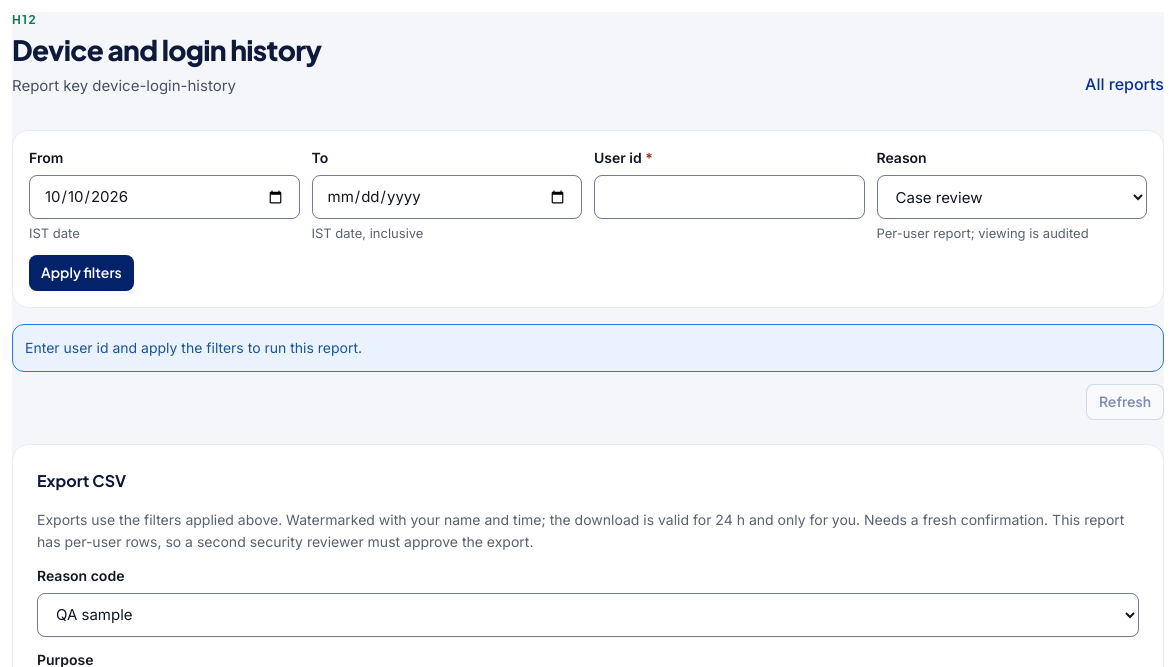
Report filters and secondary data (ADM-06 / ADM-07) › H12 waits for a user id, then sends user_id and the 'to' date
Check: the text "Enter user id and apply the filters to run this report." is shown, box [12,324,1164,372]
Click the field labelled "User id *" at (729, 197), box [594,175,864,219]
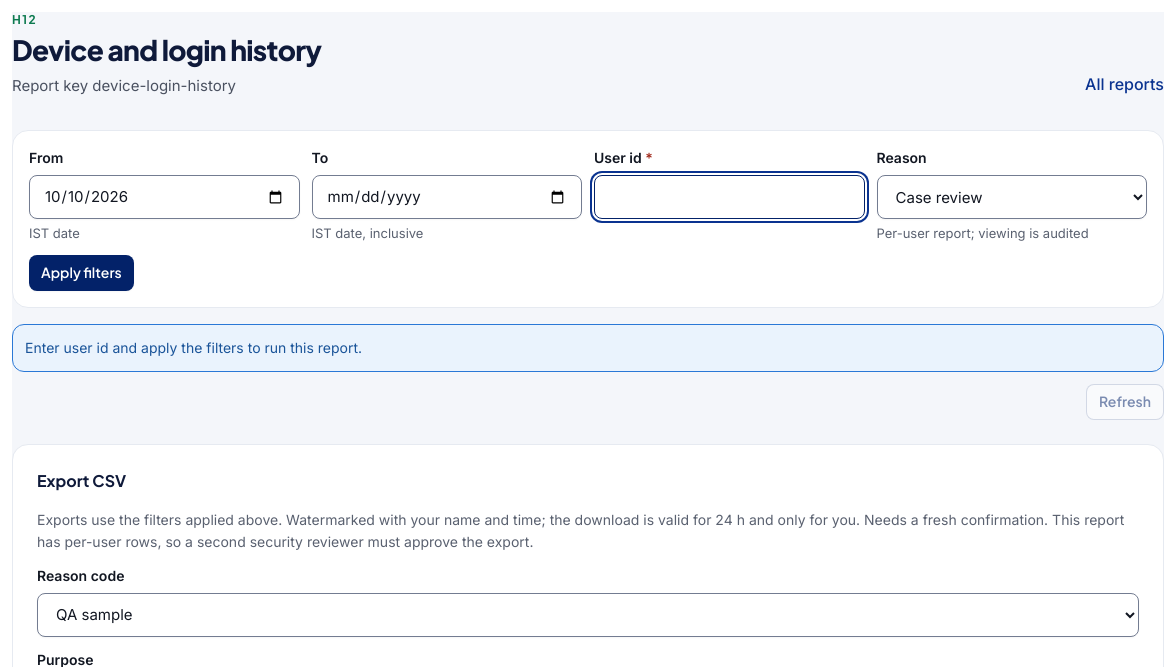
Type keys "0192f0a0-0000-7000-8000-000000000001"
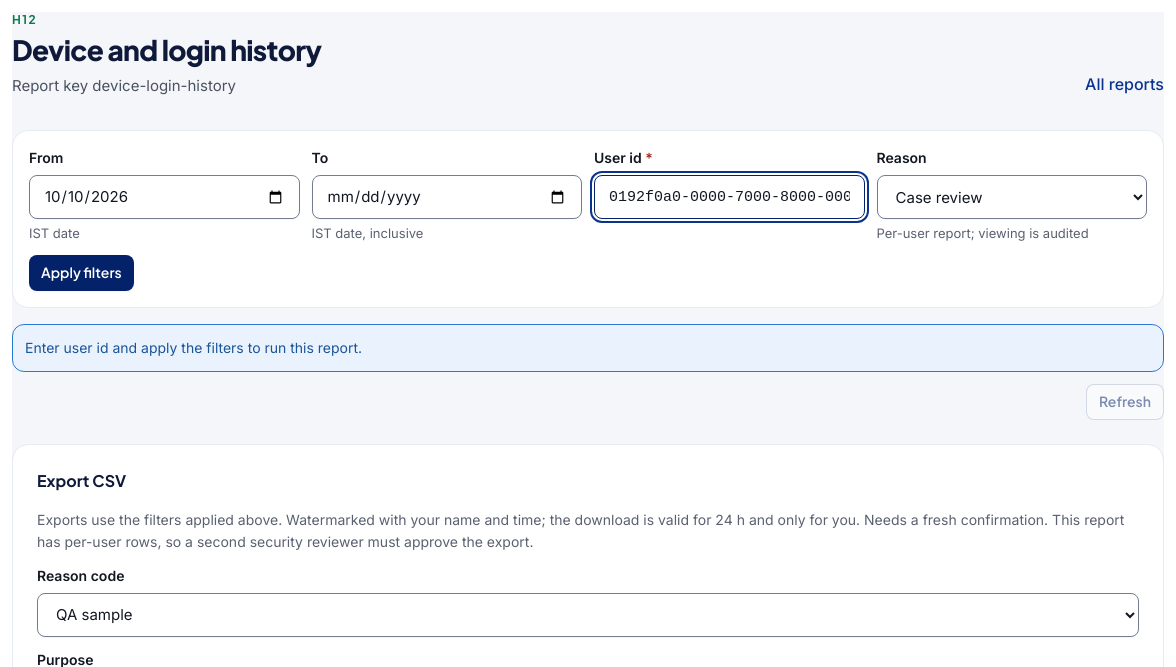
Type "2026-11-02" into the date field labelled "To" at (447, 197), box [312,175,582,219]
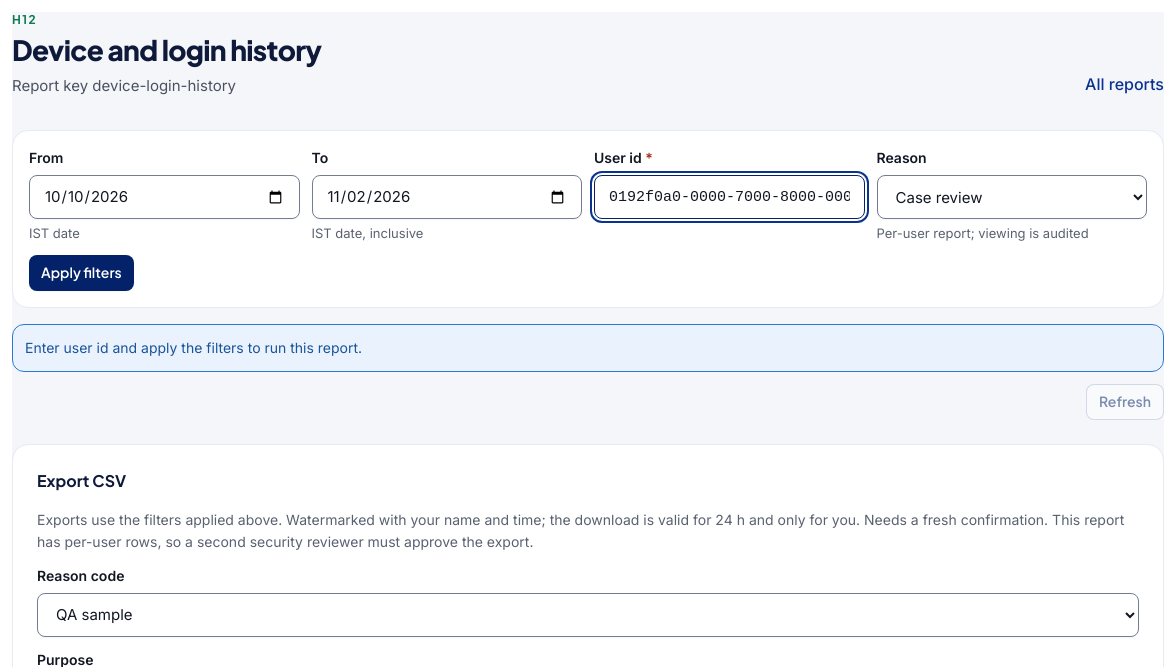
Click the button "Apply filters" at (81, 273), box [29,255,134,291]
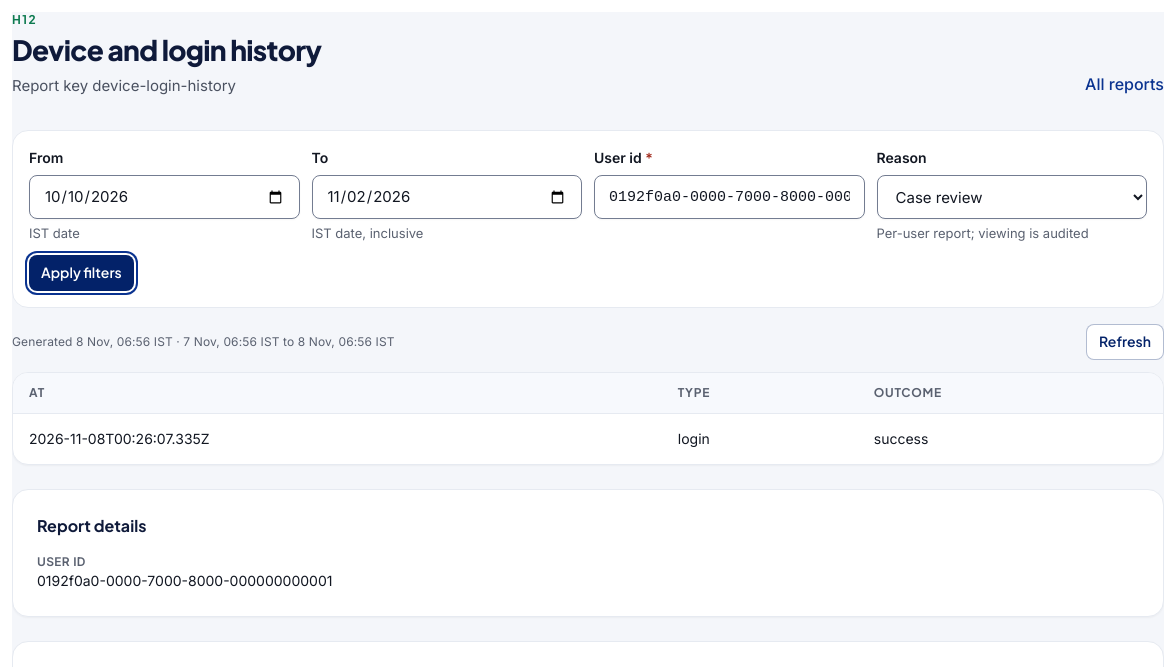
Check: the text "success" is shown, box [858,414,1163,464]
Check: the text "0192f0a0-0000-7000-8000-000000000001" is shown, box [37,572,332,589]
